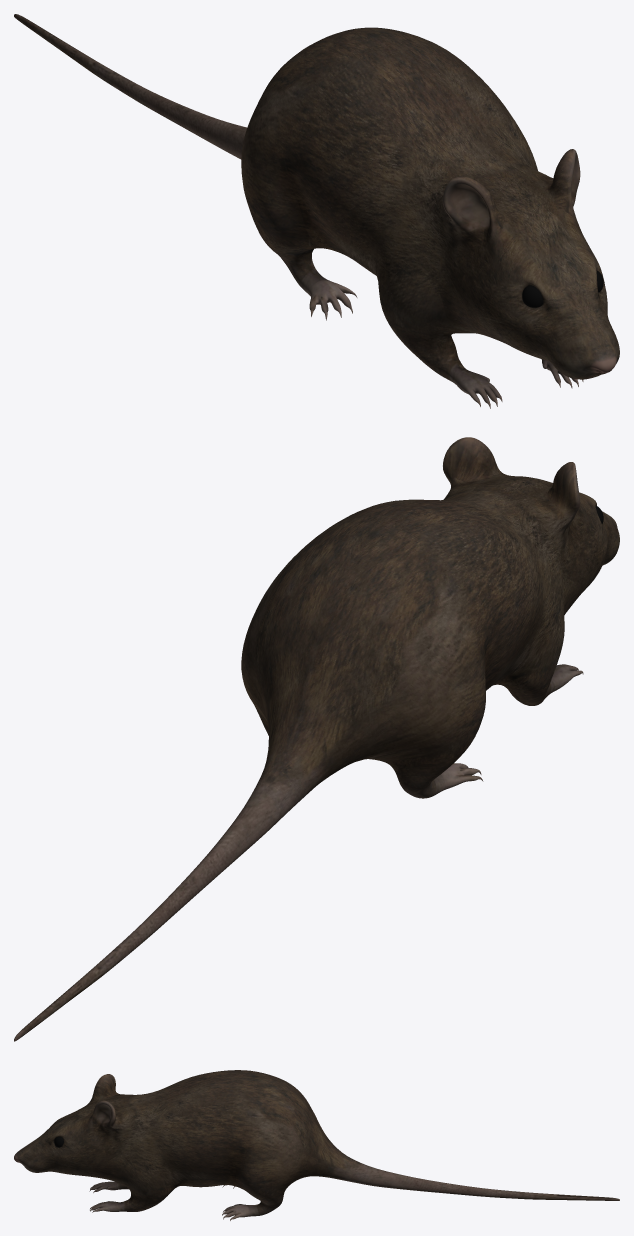
The model's file is rat.gltf.
The picture shows the model from 3 angles, top to bottom: view 1: azimuth 30°, elevation 25°; view 2: azimuth 150°, elevation 25°; view 3: azimuth 270°, elevation 25°; orthographic projection. The views are drawn at different scales.
Visible parts, largest first — view 1: street_rat_0; view 2: street_rat_0; view 3: street_rat_0.
Part boxes in pixels (x1,y1,x2,y2): street_rat_0: (14,14,619,408); street_rat_0: (14,437,619,1041); street_rat_0: (14,1070,619,1220).
Size of the model in its own units: 3.2 by 3.39 by 14.83.
Materials: 1 (1 with a texture image).
